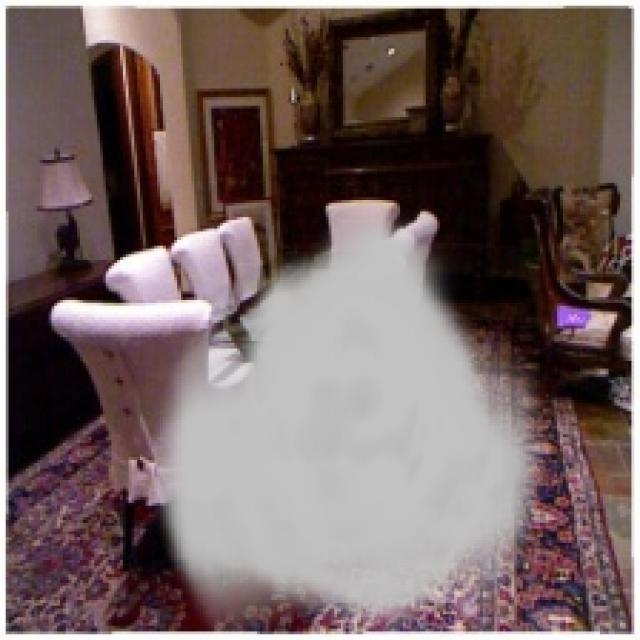Smoke: (152, 208, 554, 632)
